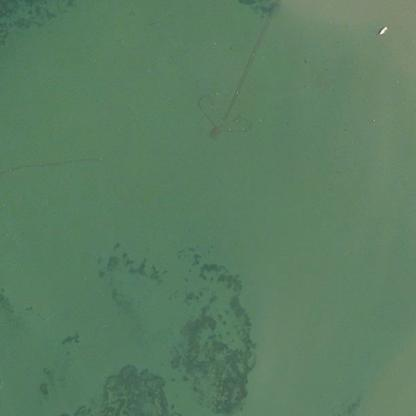ship: (372, 19, 391, 40)
